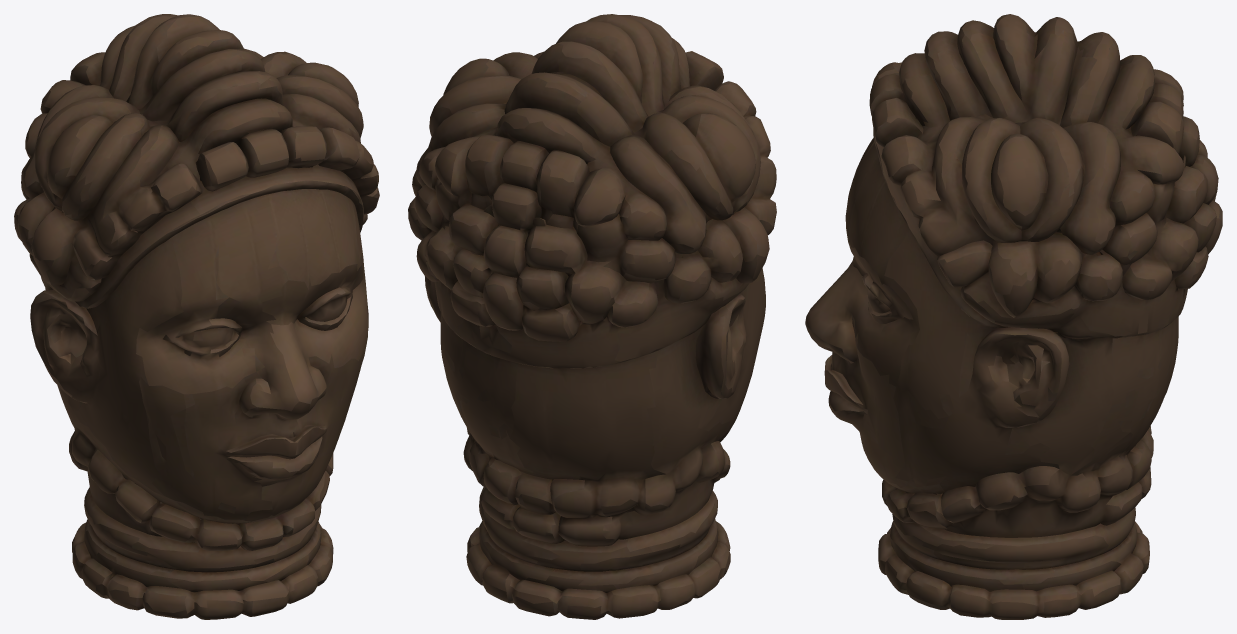
Rendered from ife_head.glb.
3 renders of one model, left to right at view 1: azimuth 30°, elevation 25°; view 2: azimuth 150°, elevation 25°; view 3: azimuth 270°, elevation 25°, orthographic.
Parts seen in each view (by area): view 1: geometry_0; view 2: geometry_0; view 3: geometry_0.
Part boxes in pixels (<box>): geometry_0: <box>14,14,379,619</box>; geometry_0: <box>408,14,776,619</box>; geometry_0: <box>805,14,1222,619</box>.
Bounding box in the file's own units: 0.1615 × 0.25 × 0.1726.
1 material, 1 textured.
